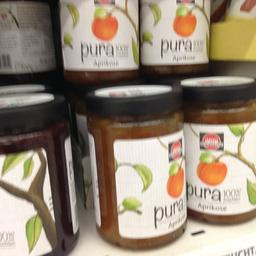jam: (82, 82, 188, 250), (0, 92, 81, 254), (176, 73, 255, 224), (58, 0, 140, 83), (140, 0, 210, 80)
